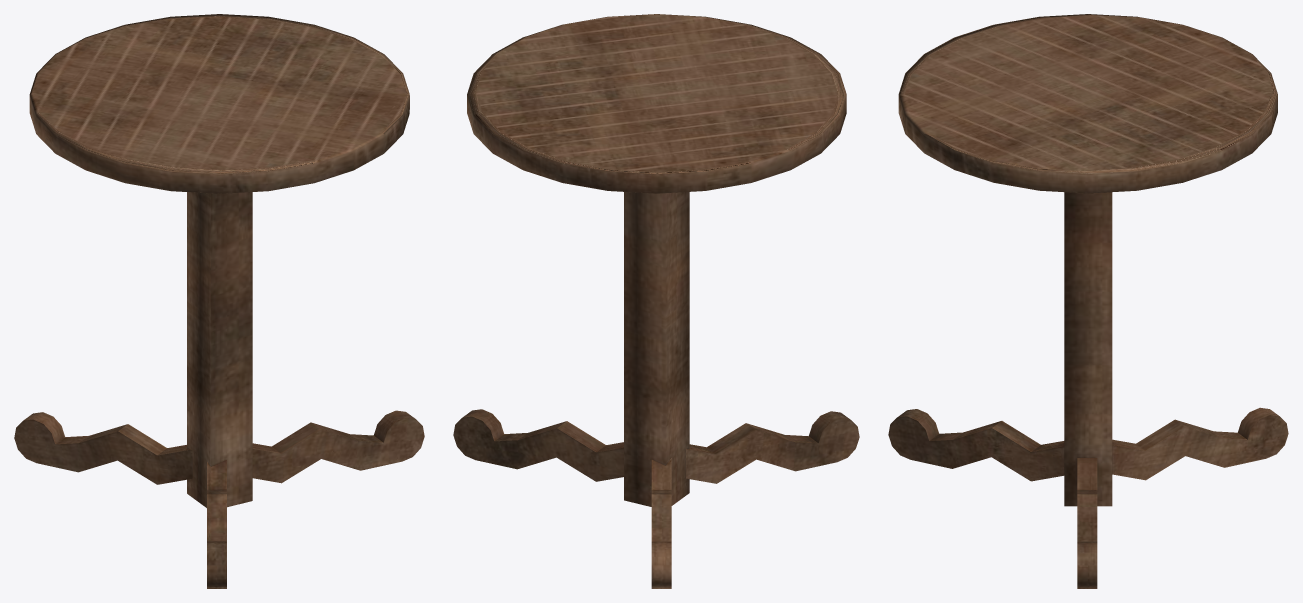
The model's file is side-table.glb.
3 views of the same model, side by side, from view 1: azimuth 30°, elevation 25°; view 2: azimuth 150°, elevation 25°; view 3: azimuth 270°, elevation 25° (orthographic).
Parts seen in each view (by area): view 1: Cylinder006, Cylinder007, Cylinder009, Cylinder008, Cylinder010; view 2: Cylinder006, Cylinder007, Cylinder010, Cylinder008, Cylinder009; view 3: Cylinder006, Cylinder007, Cylinder010, Cylinder009, Cylinder008.
Boxes of the visible parts, box(x1,y1,x2,y2) form: Cylinder006: box(29, 14, 409, 193); Cylinder007: box(187, 192, 252, 507); Cylinder009: box(14, 412, 192, 484); Cylinder008: box(252, 410, 424, 483); Cylinder010: box(207, 460, 226, 588); Cylinder006: box(467, 14, 846, 193); Cylinder007: box(624, 192, 689, 506); Cylinder010: box(686, 411, 859, 483); Cylinder008: box(453, 409, 623, 481); Cylinder009: box(651, 458, 671, 588); Cylinder006: box(898, 14, 1277, 193); Cylinder007: box(1064, 192, 1112, 506); Cylinder010: box(888, 409, 1064, 481); Cylinder009: box(1112, 407, 1288, 480); Cylinder008: box(1077, 458, 1097, 588).
Size of the model in its own units: 0.0416 by 0.0445 by 0.0397.
1 material, 1 textured.
